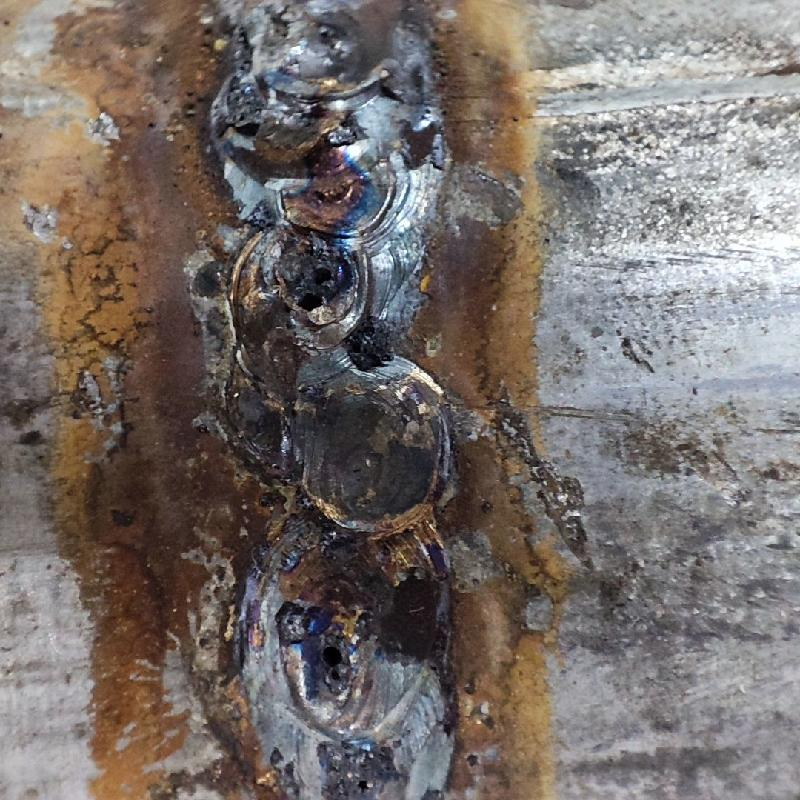Surface_pores: (284, 240, 353, 320), (308, 619, 373, 673)
crater: (213, 4, 466, 758)
